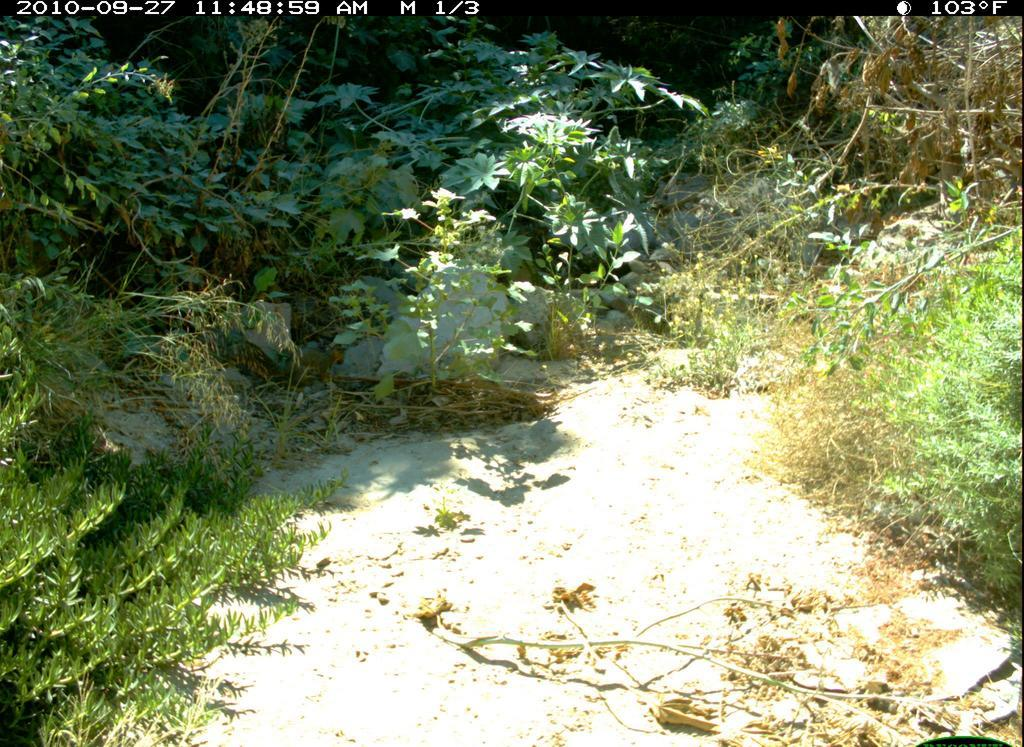squirrel: (229, 340, 348, 393)
